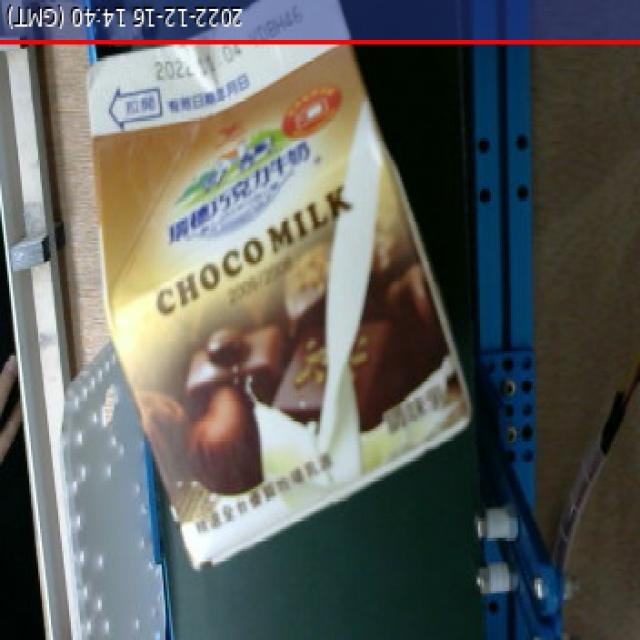non_white_jug: (62, 3, 492, 589)
